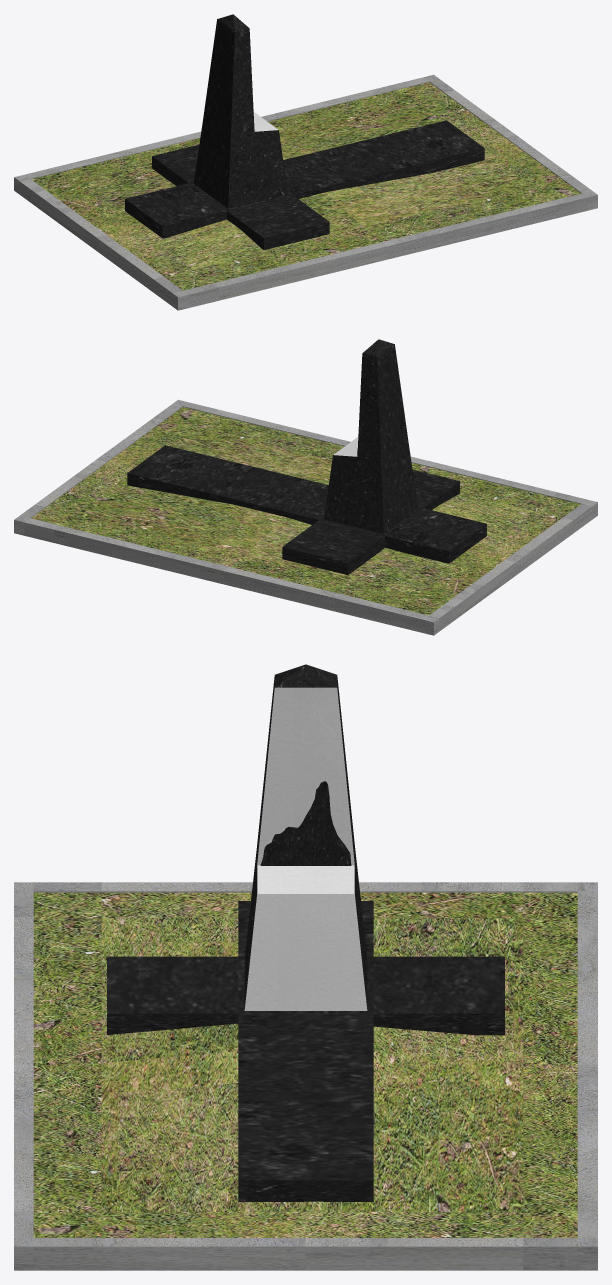
Rendered from MonumentoDedoDeDeus.fbx.
3 views of the same model, one above another, from view 1: azimuth 30°, elevation 25°; view 2: azimuth 150°, elevation 25°; view 3: azimuth 270°, elevation 25° (orthographic). The views are drawn at different scales.
Parts seen in each view (by area): view 1: Cubo.002, Cubo.001, Cubo; view 2: Cubo.002, Cubo.001, Cubo; view 3: Cubo.002, Cubo.001, Cubo, Plano.
Boxes of the visible parts, box(x1,y1,x2,y2) form: Cubo.002: box(14, 74, 597, 310); Cubo.001: box(125, 120, 484, 249); Cubo: box(193, 14, 287, 208); Cubo.002: box(14, 399, 597, 635); Cubo.001: box(127, 445, 486, 574); Cubo: box(324, 339, 418, 533); Cubo.002: box(14, 882, 597, 1270); Cubo.001: box(107, 901, 504, 1201); Cubo: box(244, 664, 367, 1010); Plano: box(260, 781, 351, 865).
Size of the model in its own units: 71560 by 33043 by 48452.
Materials: 3 (3 with a texture image).
